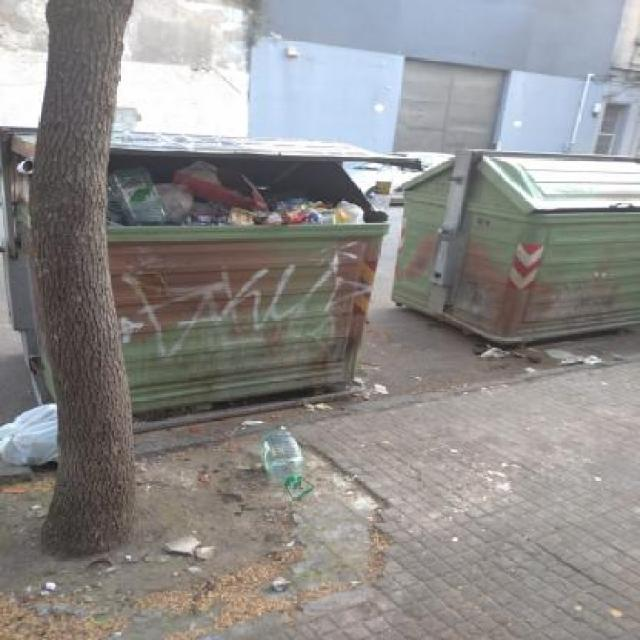garbage: (214, 423, 370, 506), (110, 171, 329, 230), (0, 399, 62, 476)
